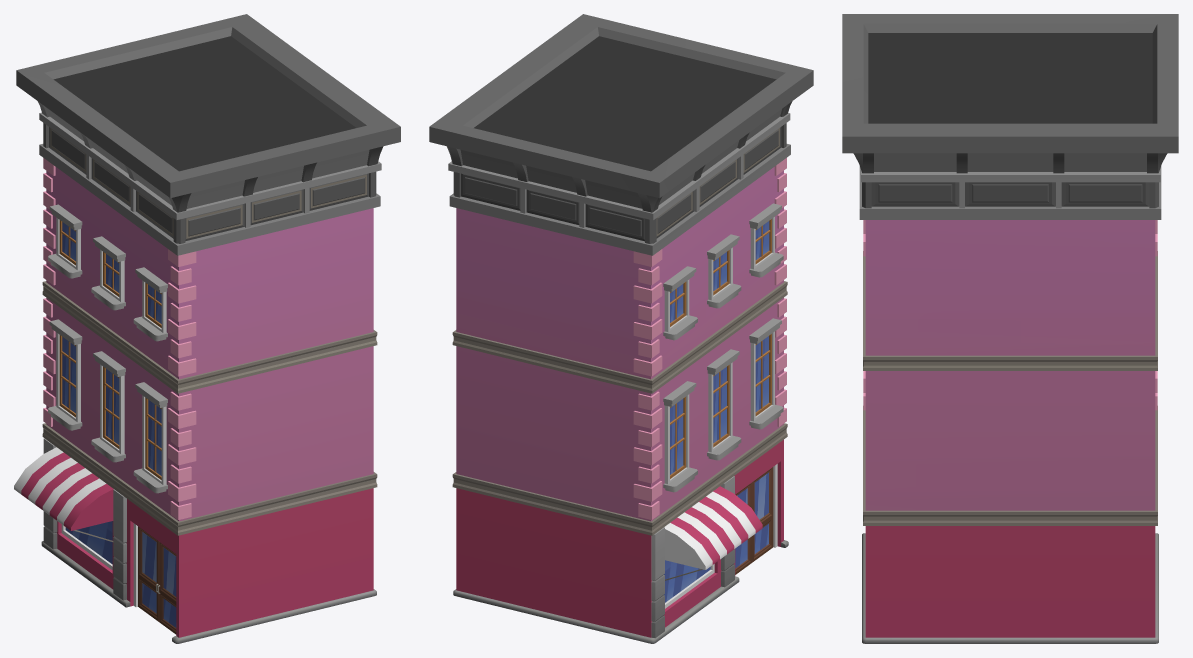
Rendered from Building_8_2_S.fbx.
3 views of the same model, side by side, from view 1: azimuth 30°, elevation 25°; view 2: azimuth 150°, elevation 25°; view 3: azimuth 270°, elevation 25° (orthographic). The views are drawn at different scales.
Visible parts, largest first — view 1: Building 8_2_S; view 2: Building 8_2_S; view 3: Building 8_2_S.
Boxes of the visible parts, <box> form: Building 8_2_S: <box>14,14,400,643</box>; Building 8_2_S: <box>429,14,813,643</box>; Building 8_2_S: <box>842,14,1178,643</box>.
Size of the model in its own units: 720 by 1276 by 755.
